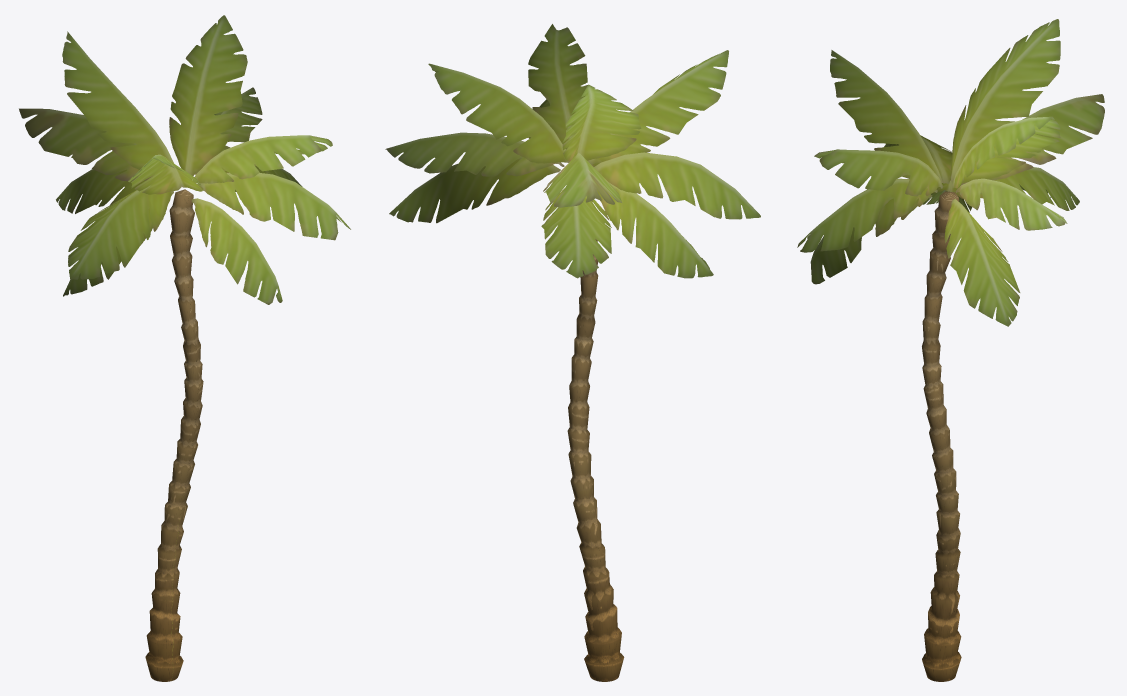
The model's file is palm_edit_01.fbx.
The picture shows the model from 3 angles, left to right: view 1: azimuth 30°, elevation 25°; view 2: azimuth 150°, elevation 25°; view 3: azimuth 270°, elevation 25°; orthographic projection. The views are drawn at different scales.
Parts seen in each view (by area): view 1: Tree_1.001, Tree_0.001; view 2: Tree_1.001, Tree_0.001; view 3: Tree_1.001, Tree_0.001.
Part boxes in pixels (x1,y1,x2,y2): Tree_1.001: (19,15,350,304); Tree_0.001: (145,189,203,681); Tree_1.001: (385,24,760,278); Tree_0.001: (567,201,624,681); Tree_1.001: (797,19,1104,326); Tree_0.001: (922,191,961,681).
Bounding box in the file's own units: 427 × 847 × 388.
